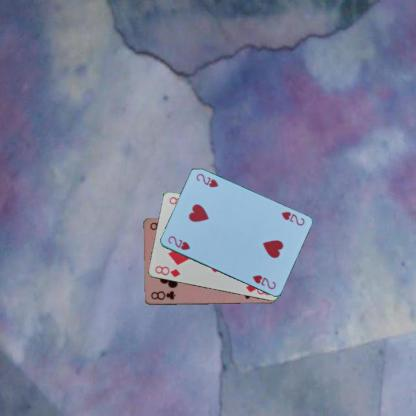2h: (278, 209, 306, 227), (165, 233, 191, 252)
8c: (148, 288, 177, 302)
8d: (152, 264, 182, 278)
